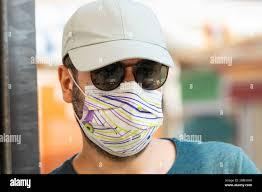cap: (57, 0, 179, 75)
mask: (77, 81, 168, 156)
sunglasses: (88, 58, 171, 95)
